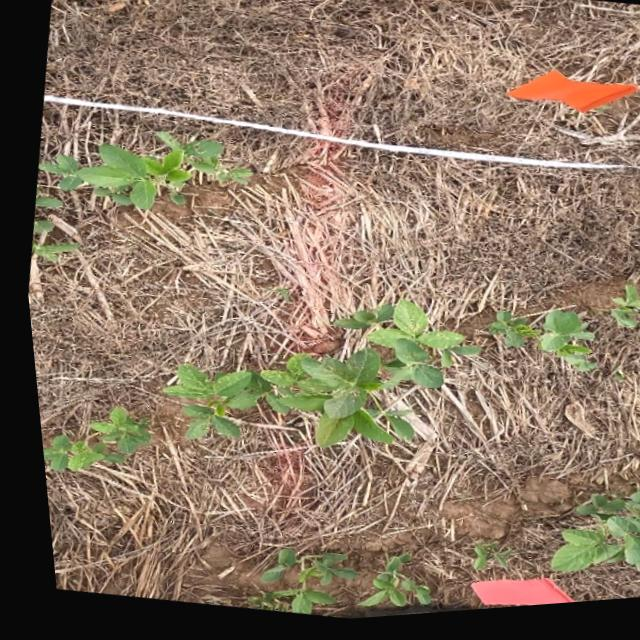soy_plant: (155, 305, 472, 450), (34, 133, 246, 210), (539, 485, 640, 580), (235, 550, 344, 618), (34, 408, 141, 470), (482, 318, 586, 378), (347, 557, 417, 610), (605, 293, 640, 335), (460, 548, 501, 576), (26, 237, 73, 261), (31, 190, 57, 208), (28, 217, 48, 232)
